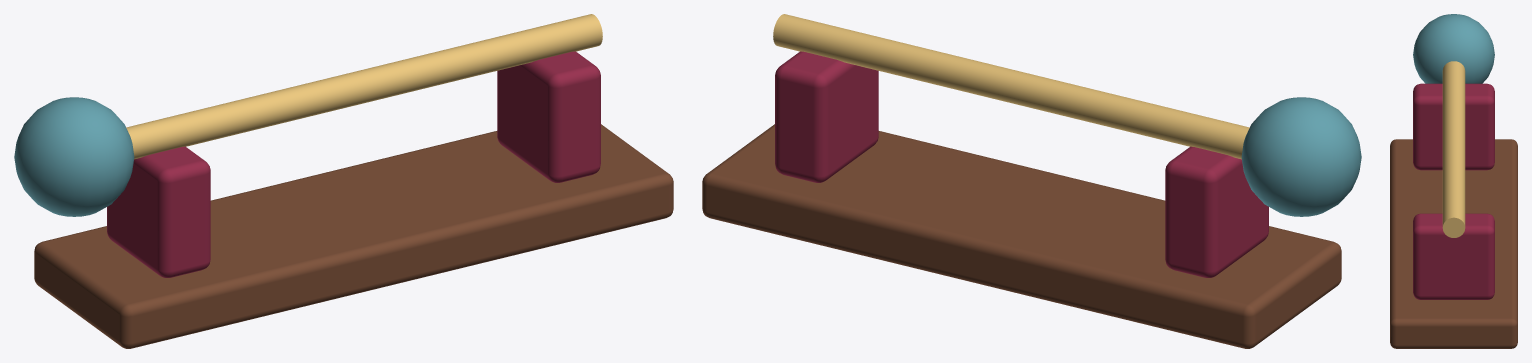
Rendered from royal-court-and-throne-palace-sceptre-rest-eeeb838d__29393.glb.
3 renders of one model, left to right at view 1: azimuth 30°, elevation 25°; view 2: azimuth 150°, elevation 25°; view 3: azimuth 270°, elevation 25°, orthographic. The views are drawn at different scales.
Parts seen in each view (by area): view 1: sceptre-rest; view 2: sceptre-rest; view 3: sceptre-rest.
Boxes of the visible parts, x1,y1,x2,y2 form: sceptre-rest: (14, 14, 673, 348); sceptre-rest: (702, 14, 1361, 348); sceptre-rest: (1390, 14, 1517, 348).
Size of the model in its own units: 0.935 by 0.32 by 0.25.
